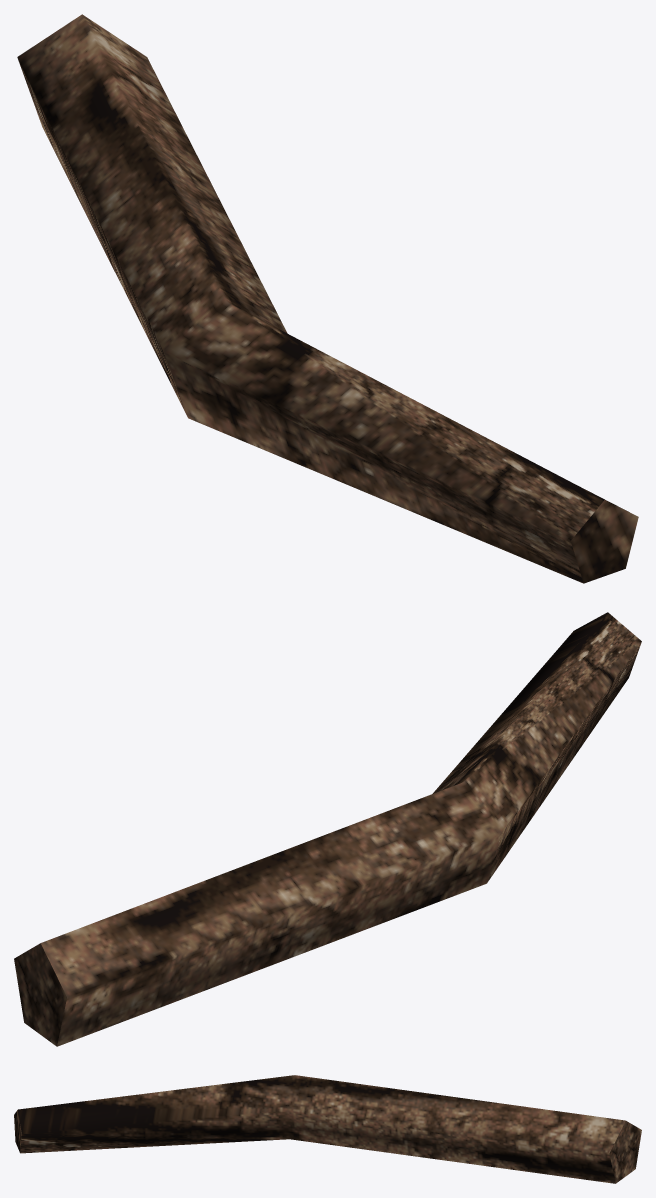
The model's file is SM_FOL_Stick_01_B.glb.
The picture shows the model from 3 angles, top to bottom: view 1: azimuth 30°, elevation 25°; view 2: azimuth 150°, elevation 25°; view 3: azimuth 270°, elevation 25°; orthographic projection. The views are drawn at different scales.
Visible parts, largest first — view 1: SM_FOL_Stick_01_B; view 2: SM_FOL_Stick_01_B; view 3: SM_FOL_Stick_01_B.
Boxes of the visible parts, x1,y1,x2,y2 form: SM_FOL_Stick_01_B: (17, 14, 638, 583); SM_FOL_Stick_01_B: (14, 612, 641, 1046); SM_FOL_Stick_01_B: (14, 1075, 641, 1183).
Bounding box in the file's own units: 0.1467 × 0.0543 × 0.5515.
Materials: 1 (1 with a texture image).
